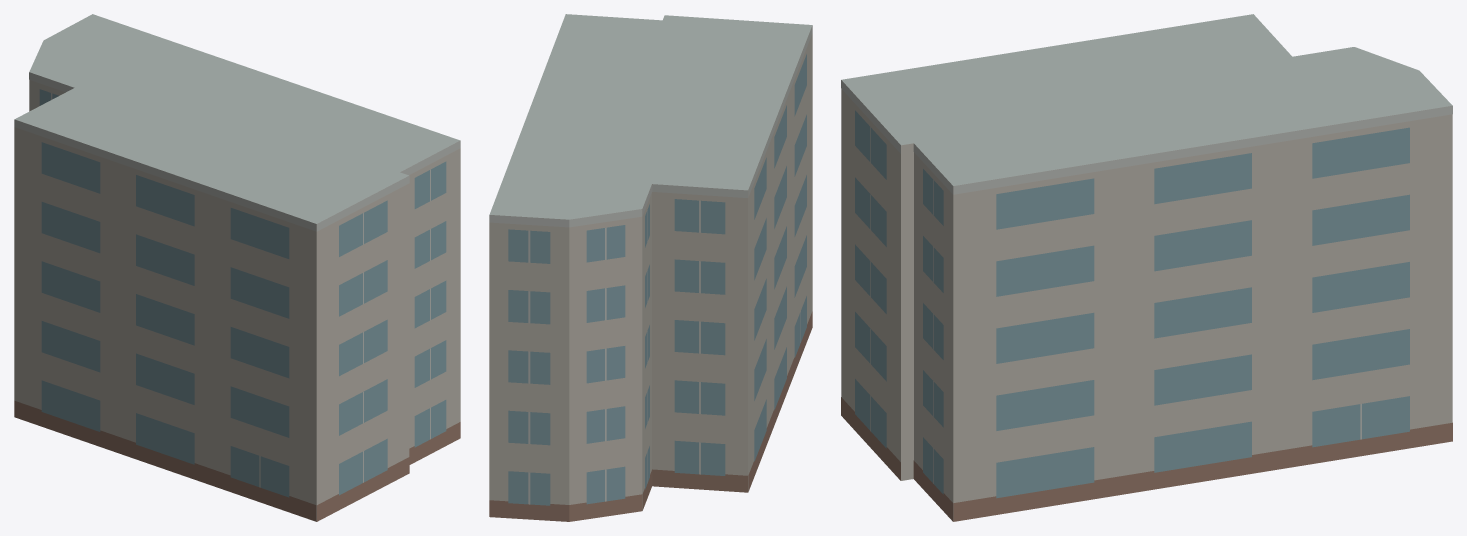
Rendered from survey-upis-32583884.glb.
3 renders of one model, left to right at view 1: azimuth 30°, elevation 25°; view 2: azimuth 150°, elevation 25°; view 3: azimuth 270°, elevation 25°, orthographic. The views are drawn at different scales.
Visible parts, largest first — view 1: survey-upis-32583884.tmp; view 2: survey-upis-32583884.tmp; view 3: survey-upis-32583884.tmp.
Boxes of the visible parts, x1,y1,x2,y2 form: survey-upis-32583884.tmp: (14, 14, 460, 521); survey-upis-32583884.tmp: (489, 14, 812, 521); survey-upis-32583884.tmp: (841, 14, 1452, 521).
Size of the model in its own units: 10.46 by 9.5 by 15.7.
